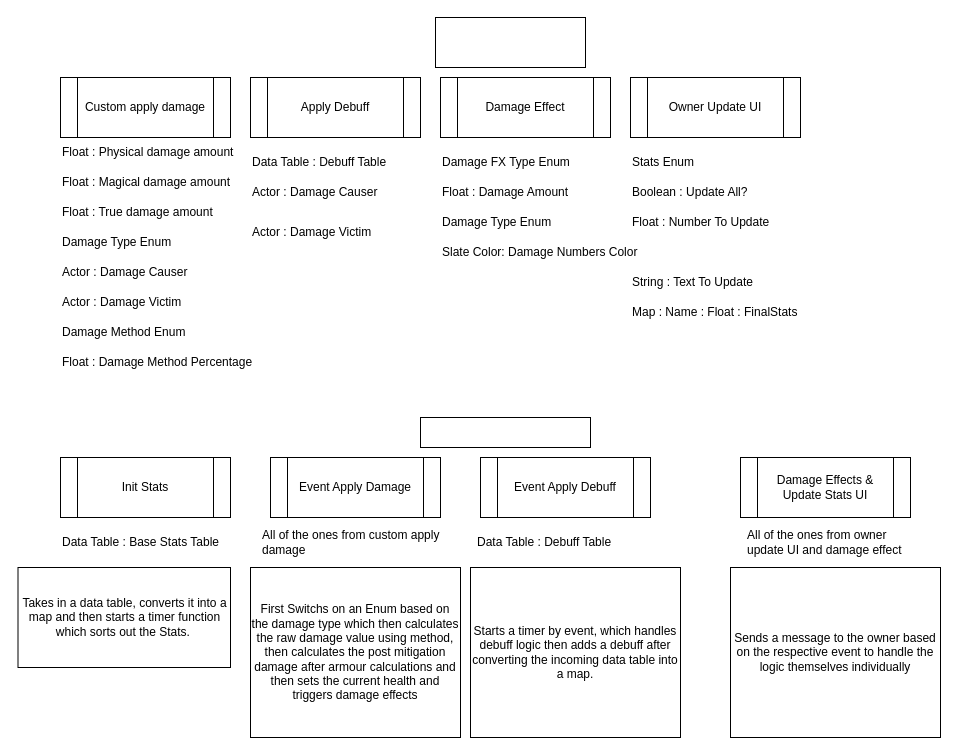
Image size: 958x755. Some labels were removed from this diagram. The shapes that lost their labels are listed below. From the top down, each one's centre as x and y in pixels, then its label:
At (x=510, y=42): "Blueprint Interface: Damage System".
At (x=505, y=432): "Blueprint actor component".
